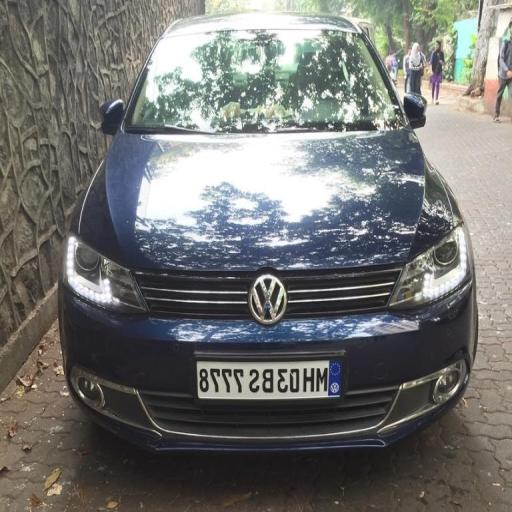License: (198, 360, 343, 399)
